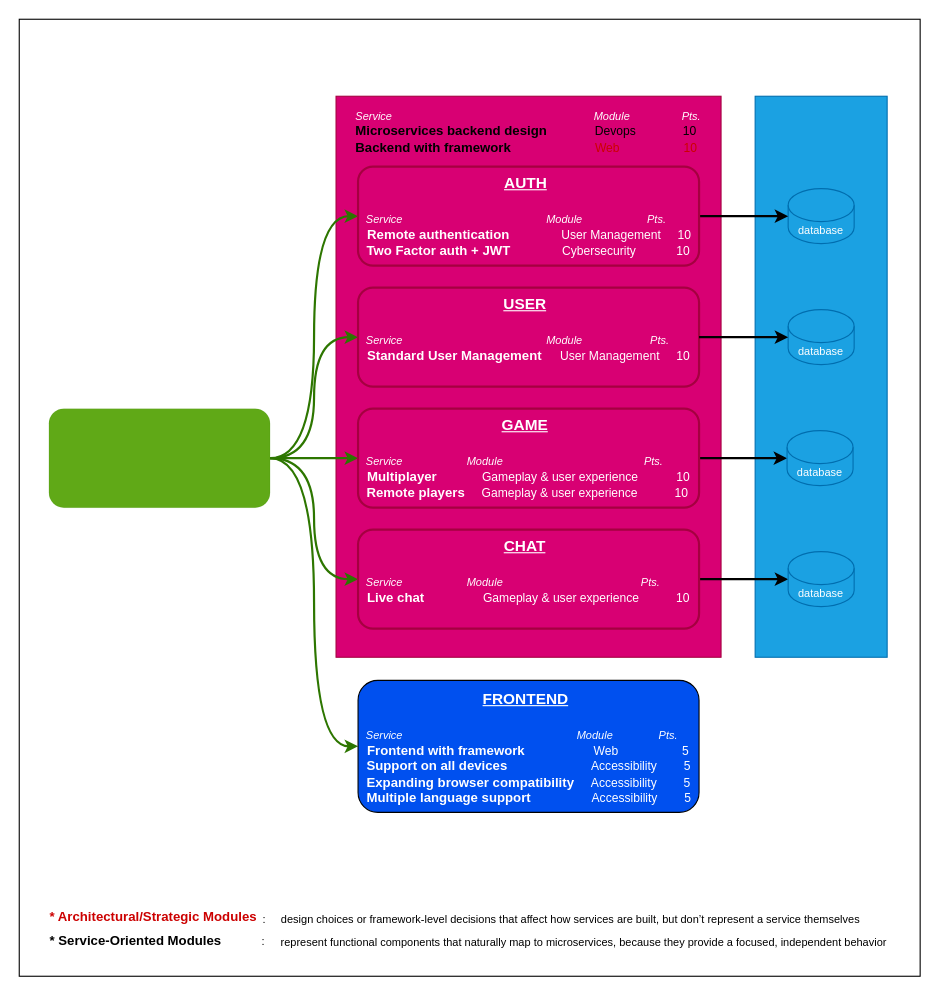
Some shapes in this 939 by 996 pixel diagram are drawn without their labels. Here are the shapes that lost their labels. From the top down, the box of each, then its label:
(754, 95, 887, 657): SQLite Database Web 10 web
(48, 408, 270, 507): NGINX API gateway
